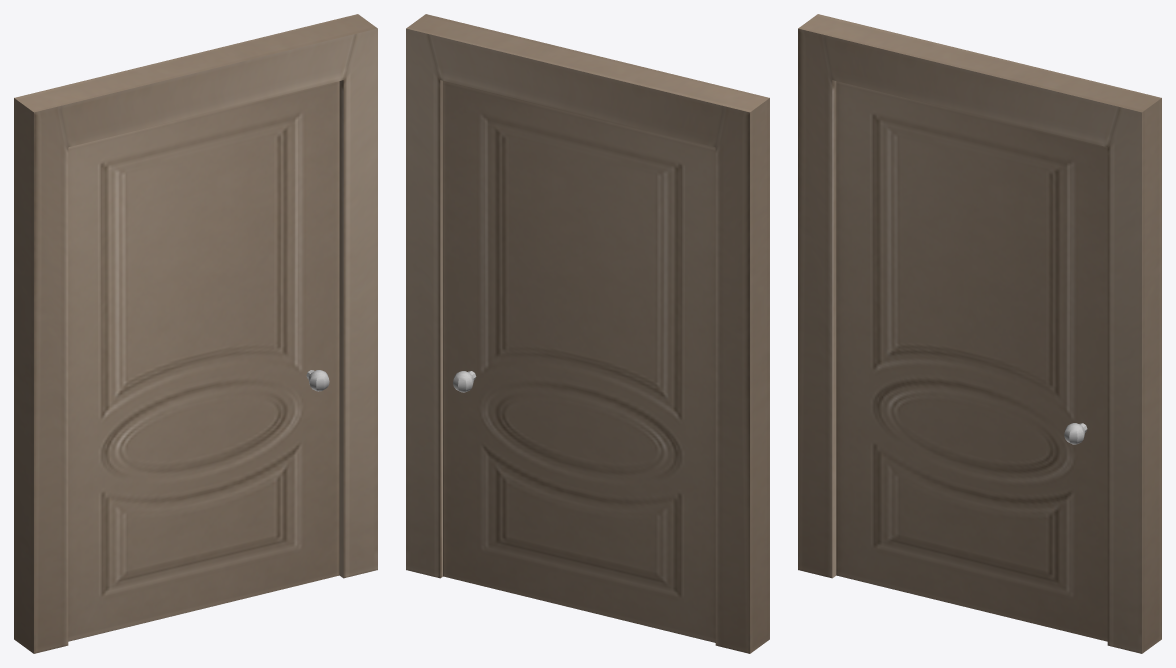
Rendered from ApartmentDoor.fbx.
3 renders of one model, left to right at view 1: azimuth 30°, elevation 25°; view 2: azimuth 150°, elevation 25°; view 3: azimuth 330°, elevation 25°, orthographic.
Visible parts, largest first — view 1: DoorKitchen.008, Cube.093; view 2: DoorKitchen.008, Cube.093; view 3: DoorKitchen.008, Cube.093.
Boxes of the visible parts, x1,y1,x2,y2 form: DoorKitchen.008: (68,81,339,641); Cube.093: (14,14,377,653); DoorKitchen.008: (443,81,715,642); Cube.093: (406,14,769,653); DoorKitchen.008: (836,81,1107,641); Cube.093: (798,14,1161,653).
Bounding box in the file's own units: 6 × 9.03 × 1.23.
2 materials, 2 textured.
